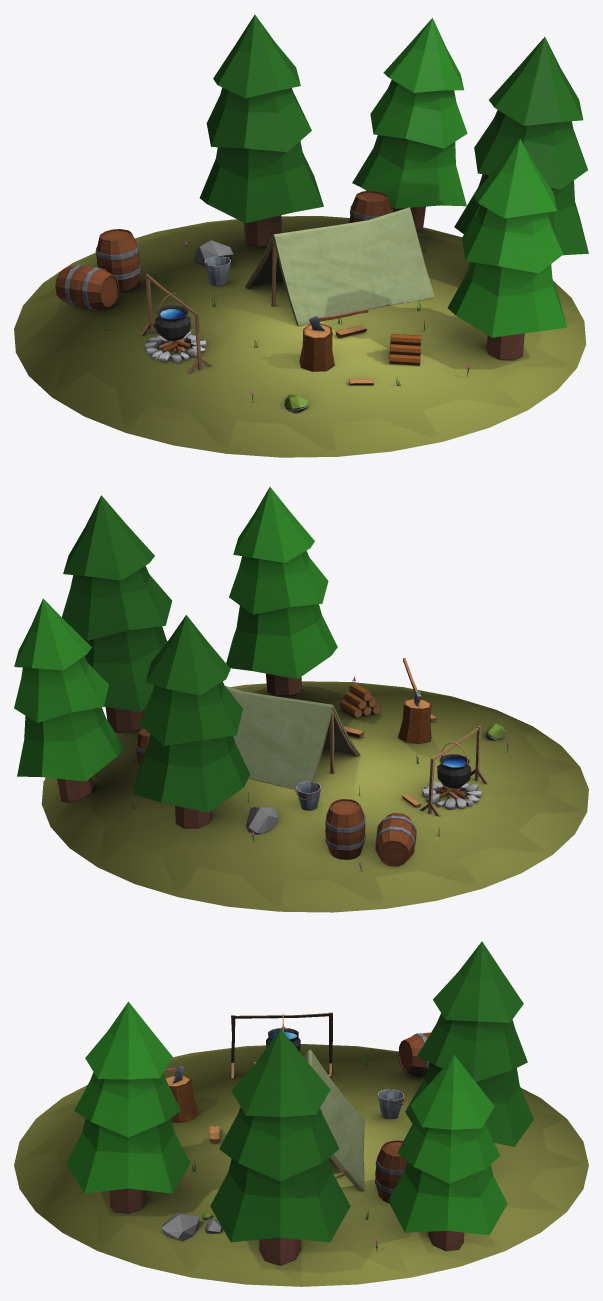
Rendered from low_poly_camp.glb.
3 renders of one model, top to bottom at view 1: azimuth 30°, elevation 25°; view 2: azimuth 150°, elevation 25°; view 3: azimuth 270°, elevation 25°, orthographic. The views are drawn at different scales.
Parts seen in each view (by area): view 1: Object001_Object001_mtl_0; view 2: Object001_Object001_mtl_0; view 3: Object001_Object001_mtl_0.
Boxes of the visible parts, left/top/right/bottom form: Object001_Object001_mtl_0: left=14, top=14, right=588, bottom=457; Object001_Object001_mtl_0: left=14, top=487, right=588, bottom=912; Object001_Object001_mtl_0: left=14, top=941, right=588, bottom=1286.
Bounding box in the file's own units: 4105 × 1890 × 3919.
Materials: 1 (1 with a texture image).
